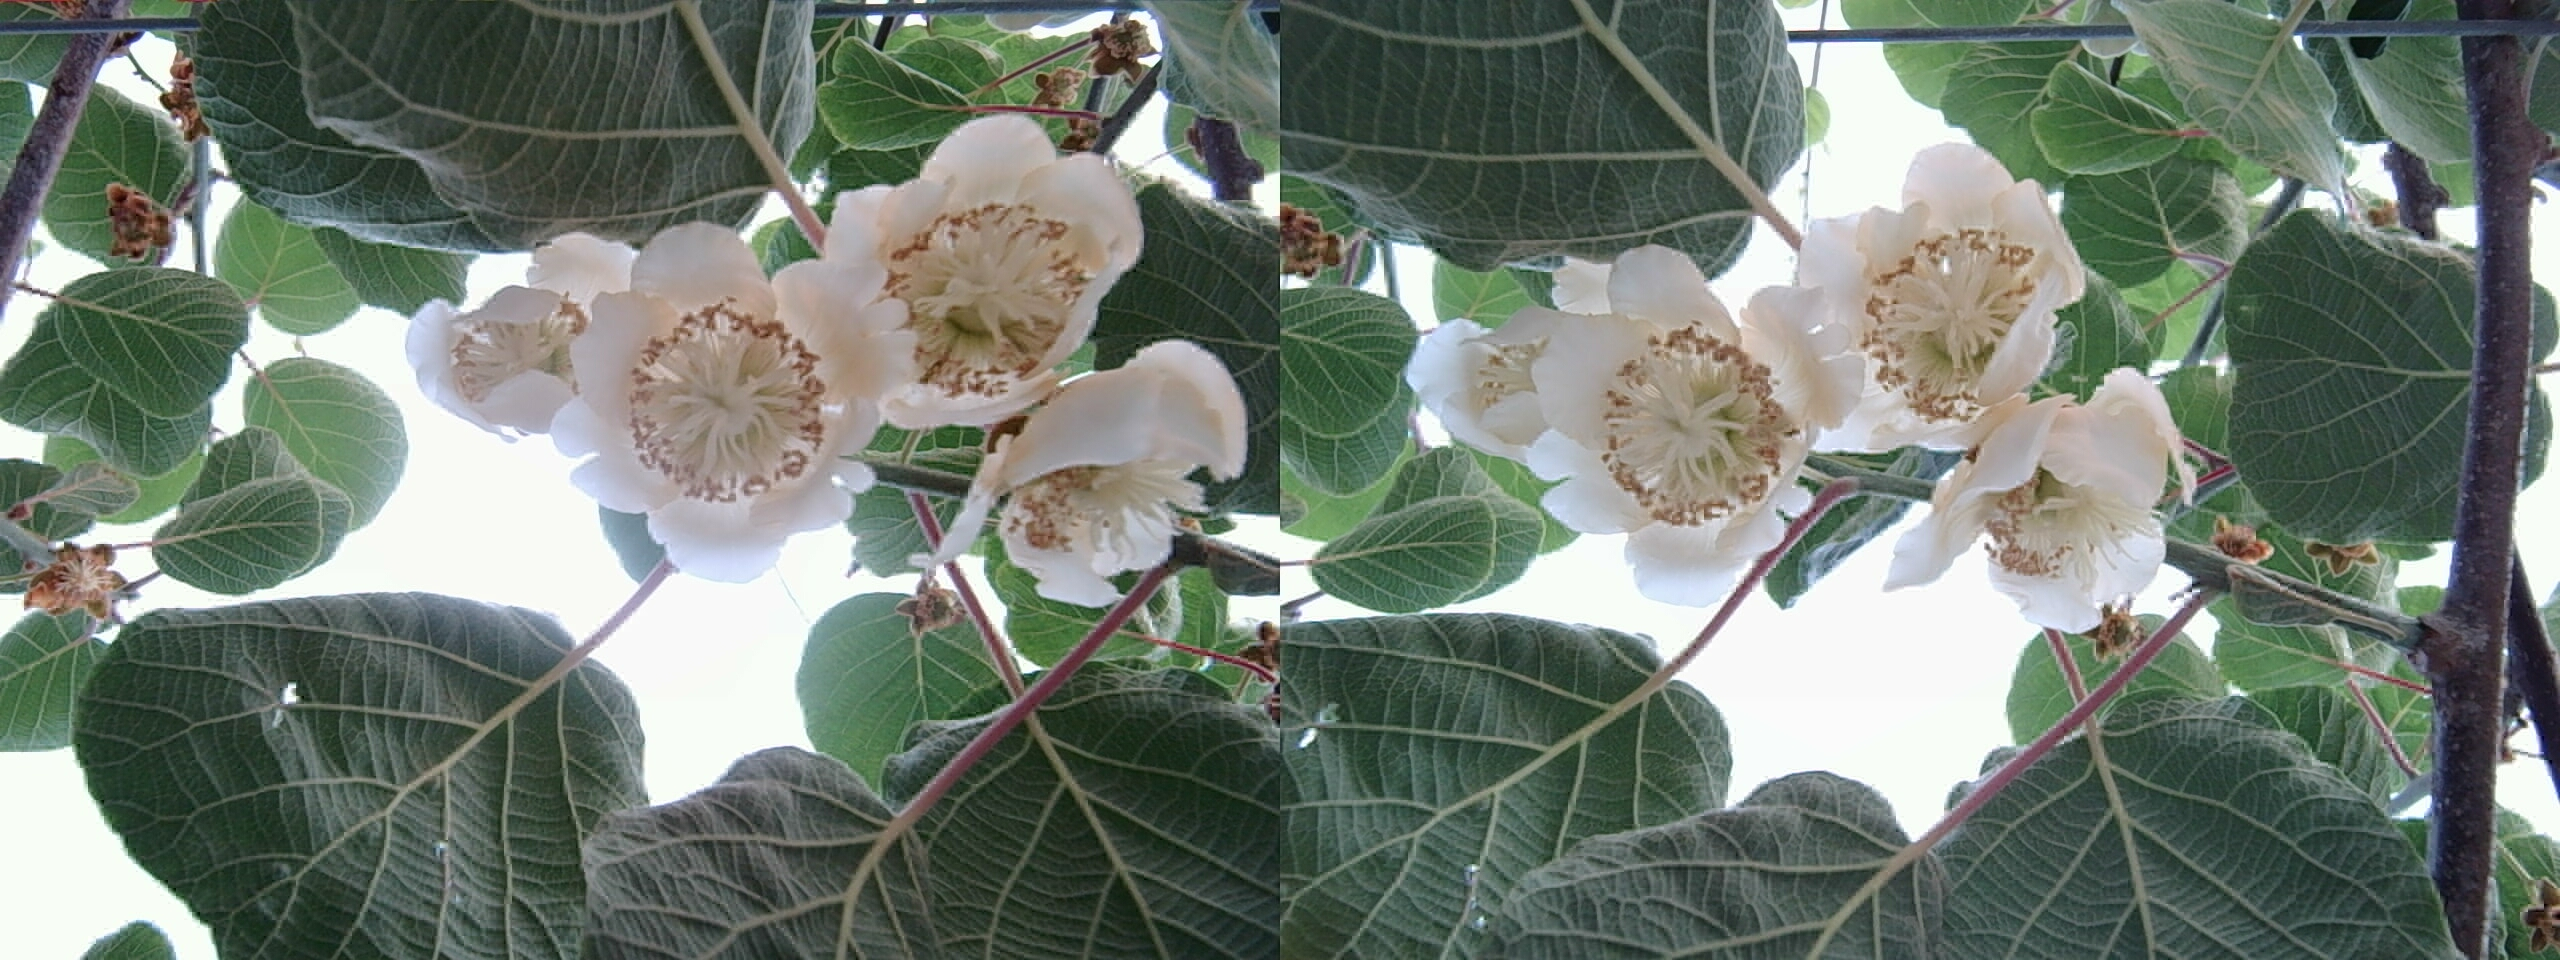flower: (553, 237, 877, 568), (1515, 261, 1833, 563), (839, 119, 1123, 424), (1801, 145, 2072, 439), (962, 354, 1233, 606), (1918, 382, 2184, 637), (407, 264, 601, 424), (1416, 320, 1571, 462)
